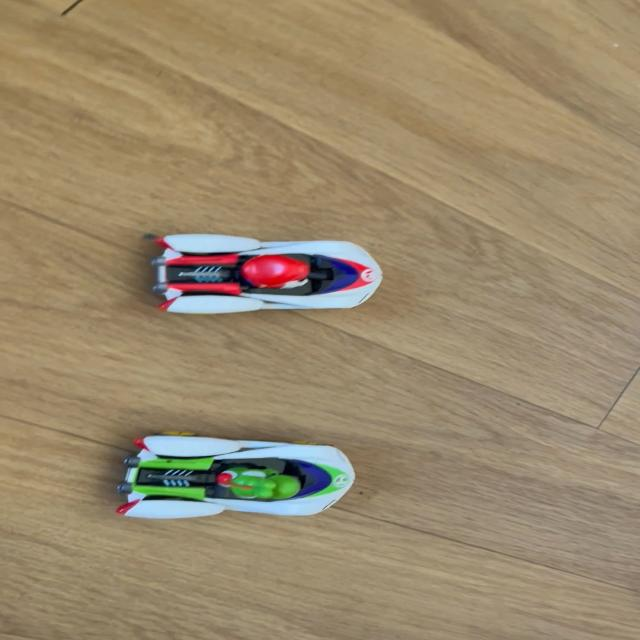mario: (123, 226, 403, 323)
yoshi: (95, 422, 377, 524)
